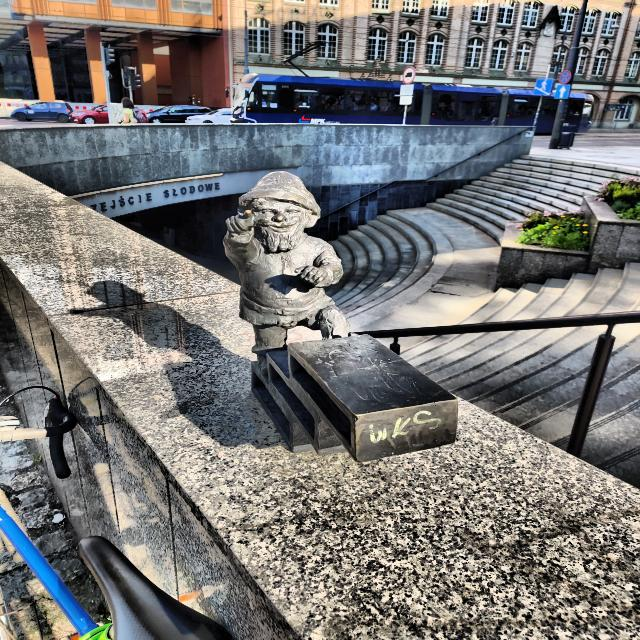Elementek: (223, 171, 458, 461)
